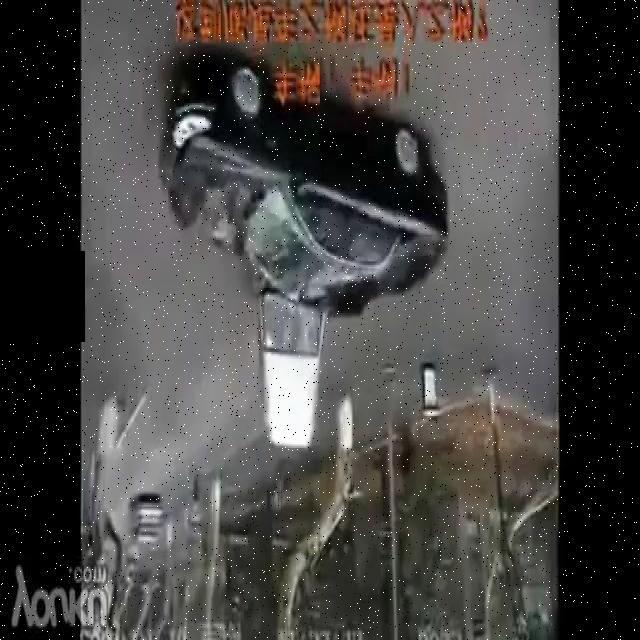moderate: (155, 59, 452, 457)
